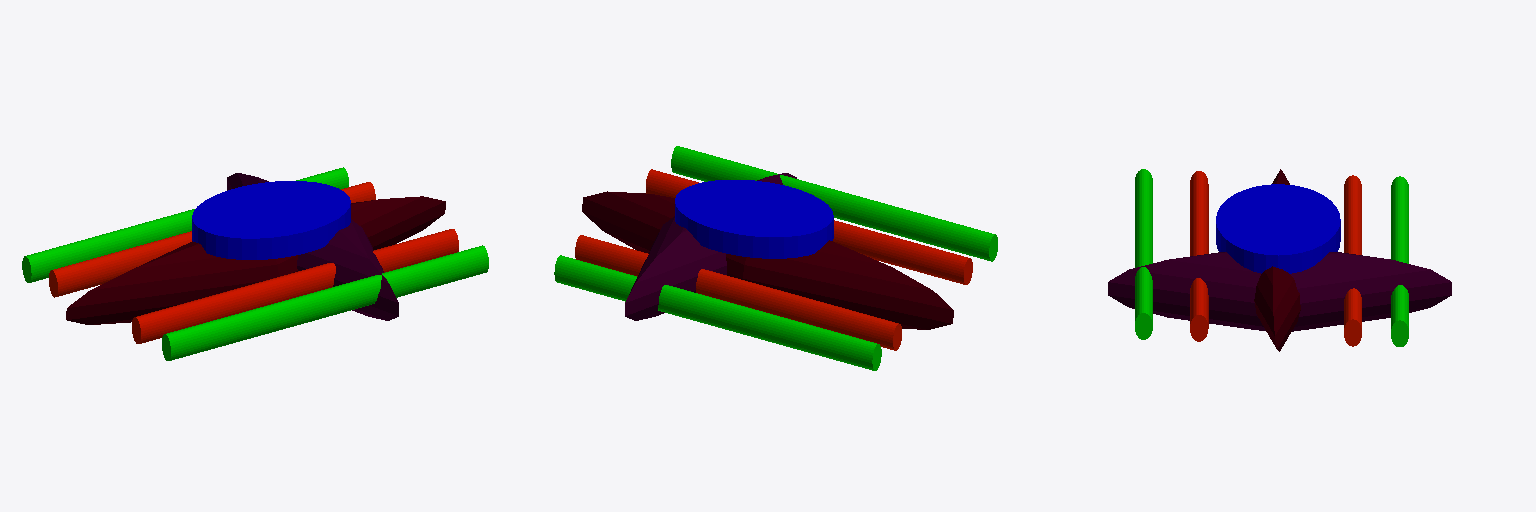
The model's file is boss3.obj.
3 views of the same model, side by side, from view 1: azimuth 30°, elevation 25°; view 2: azimuth 150°, elevation 25°; view 3: azimuth 270°, elevation 25° (orthographic).
Visible parts, largest first — view 1: Sphere.001_Sphere.002, Cylinder, Cylinder.001_gun4, Cylinder.002_gun3, Cylinder.004_gun1, Sphere_Sphere.001, Cylinder.003_gun2; view 2: Sphere.001_Sphere.002, Cylinder, Cylinder.004_gun1, Cylinder.001_gun4, Cylinder.003_gun2, Sphere_Sphere.001, Cylinder.002_gun3; view 3: Sphere_Sphere.001, Cylinder, Cylinder.001_gun4, Sphere.001_Sphere.002, Cylinder.002_gun3, Cylinder.004_gun1, Cylinder.003_gun2.
Boxes of the visible parts, x1=… form: Sphere.001_Sphere.002: x1=66, y1=196, x2=445, y2=324; Cylinder: x1=192, y1=181, x2=350, y2=259; Cylinder.001_gun4: x1=162, y1=245, x2=488, y2=360; Cylinder.002_gun3: x1=132, y1=229, x2=458, y2=343; Cylinder.004_gun1: x1=22, y1=167, x2=348, y2=282; Sphere_Sphere.001: x1=227, y1=173, x2=398, y2=320; Cylinder.003_gun2: x1=49, y1=182, x2=375, y2=297; Sphere.001_Sphere.002: x1=582, y1=191, x2=953, y2=329; Cylinder: x1=675, y1=180, x2=833, y2=258; Cylinder.004_gun1: x1=554, y1=255, x2=881, y2=370; Cylinder.001_gun4: x1=671, y1=146, x2=997, y2=261; Cylinder.003_gun2: x1=575, y1=235, x2=901, y2=350; Sphere_Sphere.001: x1=625, y1=173, x2=796, y2=320; Cylinder.002_gun3: x1=646, y1=169, x2=972, y2=284; Sphere_Sphere.001: x1=1108, y1=252, x2=1451, y2=331; Cylinder: x1=1216, y1=184, x2=1340, y2=273; Cylinder.001_gun4: x1=1135, y1=169, x2=1152, y2=339; Sphere.001_Sphere.002: x1=1254, y1=169, x2=1300, y2=351; Cylinder.002_gun3: x1=1190, y1=171, x2=1208, y2=341; Cylinder.004_gun1: x1=1391, y1=176, x2=1408, y2=346; Cylinder.003_gun2: x1=1344, y1=175, x2=1361, y2=346.
Size of the model in its own units: 11.49 by 2.53 by 9.12.